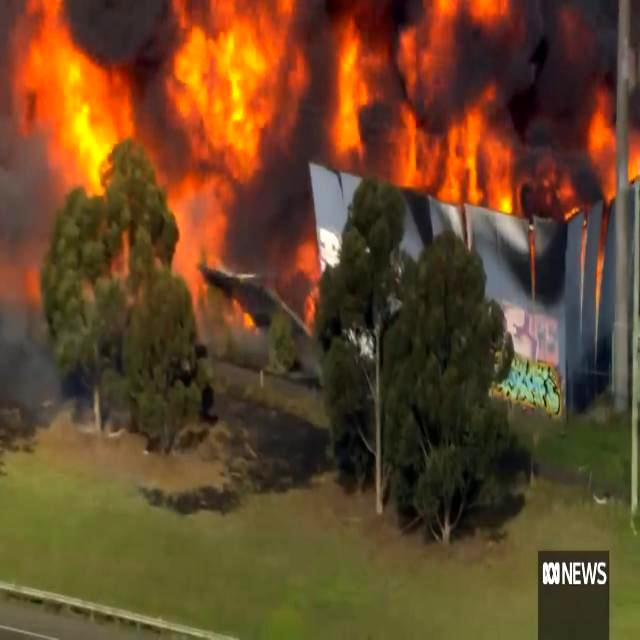fire: (1, 4, 127, 292), (174, 3, 282, 169), (396, 94, 528, 218), (160, 193, 262, 327), (584, 88, 640, 192), (329, 24, 368, 156), (437, 0, 515, 42)
